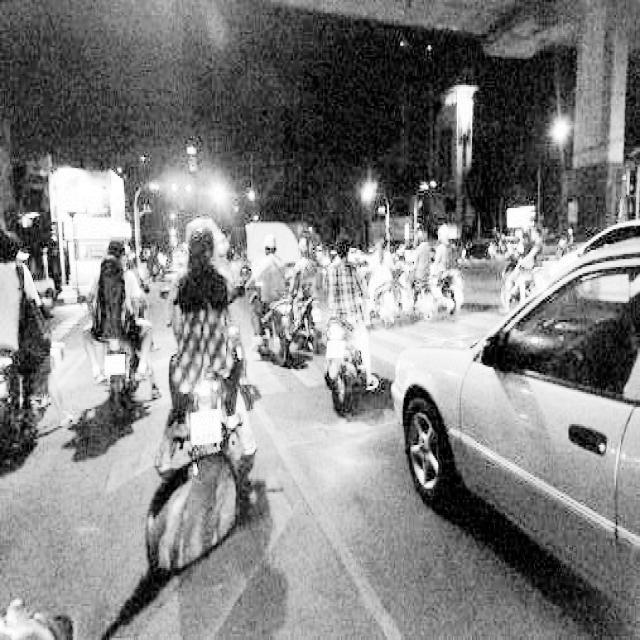Car: (395, 216, 640, 632)
Motorcycle: (143, 353, 239, 525), (313, 309, 381, 429), (0, 341, 50, 464), (90, 313, 146, 413), (433, 271, 481, 343), (391, 271, 434, 345), (257, 296, 306, 354), (372, 263, 398, 350)
Person: (171, 217, 239, 401), (3, 195, 63, 373), (263, 205, 301, 353), (330, 236, 369, 363), (97, 232, 141, 332), (295, 217, 328, 321), (368, 217, 398, 299), (417, 209, 436, 293), (437, 217, 456, 291)
